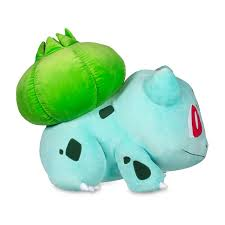bulbasaur: (12, 24, 217, 200)
